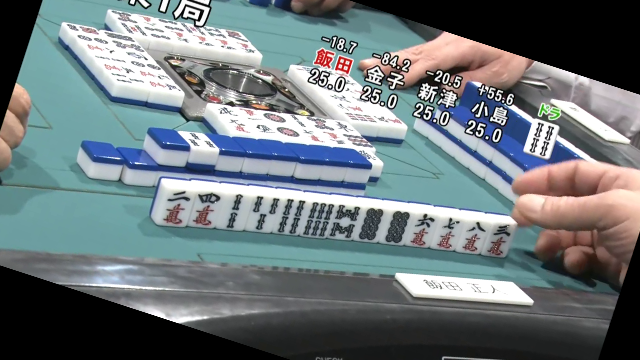Tehai: (149, 170, 509, 256)
